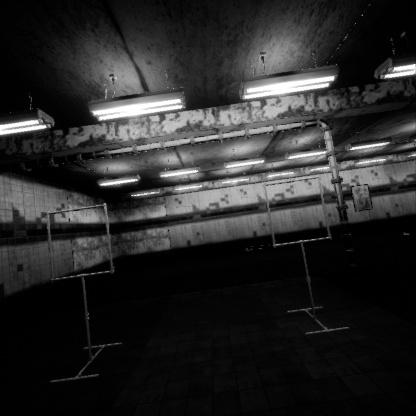gate: (46, 133, 119, 212), (263, 167, 336, 240)
